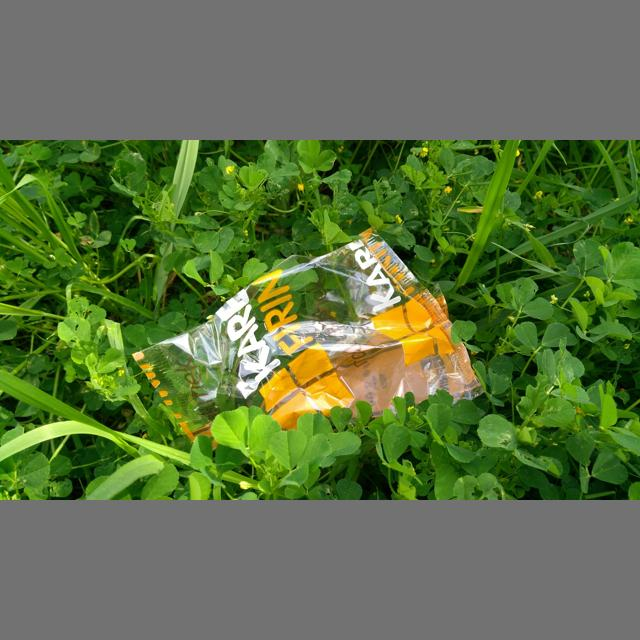litter: (132, 227, 484, 451)
